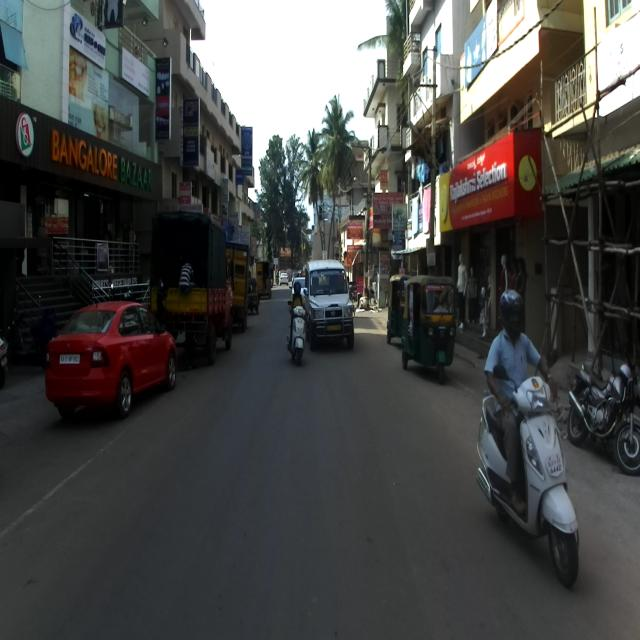auto ahead at: (406, 271, 459, 385)
car ahead at: (47, 301, 177, 412), (307, 258, 357, 346)
motorcycle ahead at: (472, 370, 582, 580)
truck ahead at: (163, 210, 237, 361)
